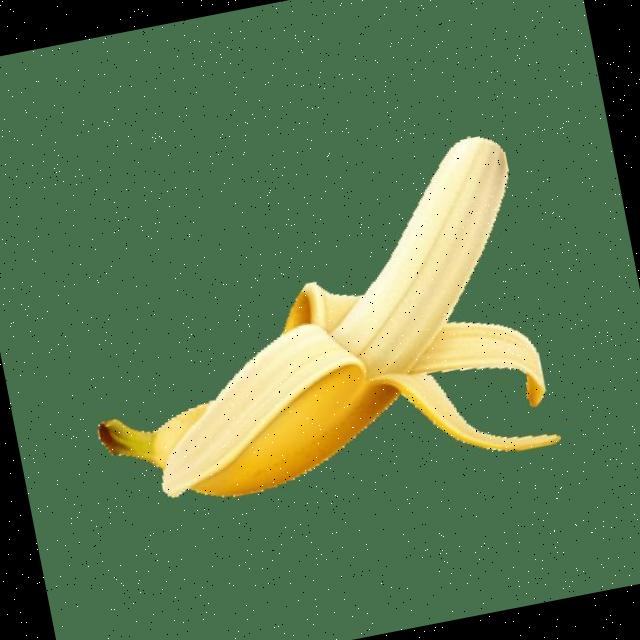banana-peel: (55, 128, 565, 530)
